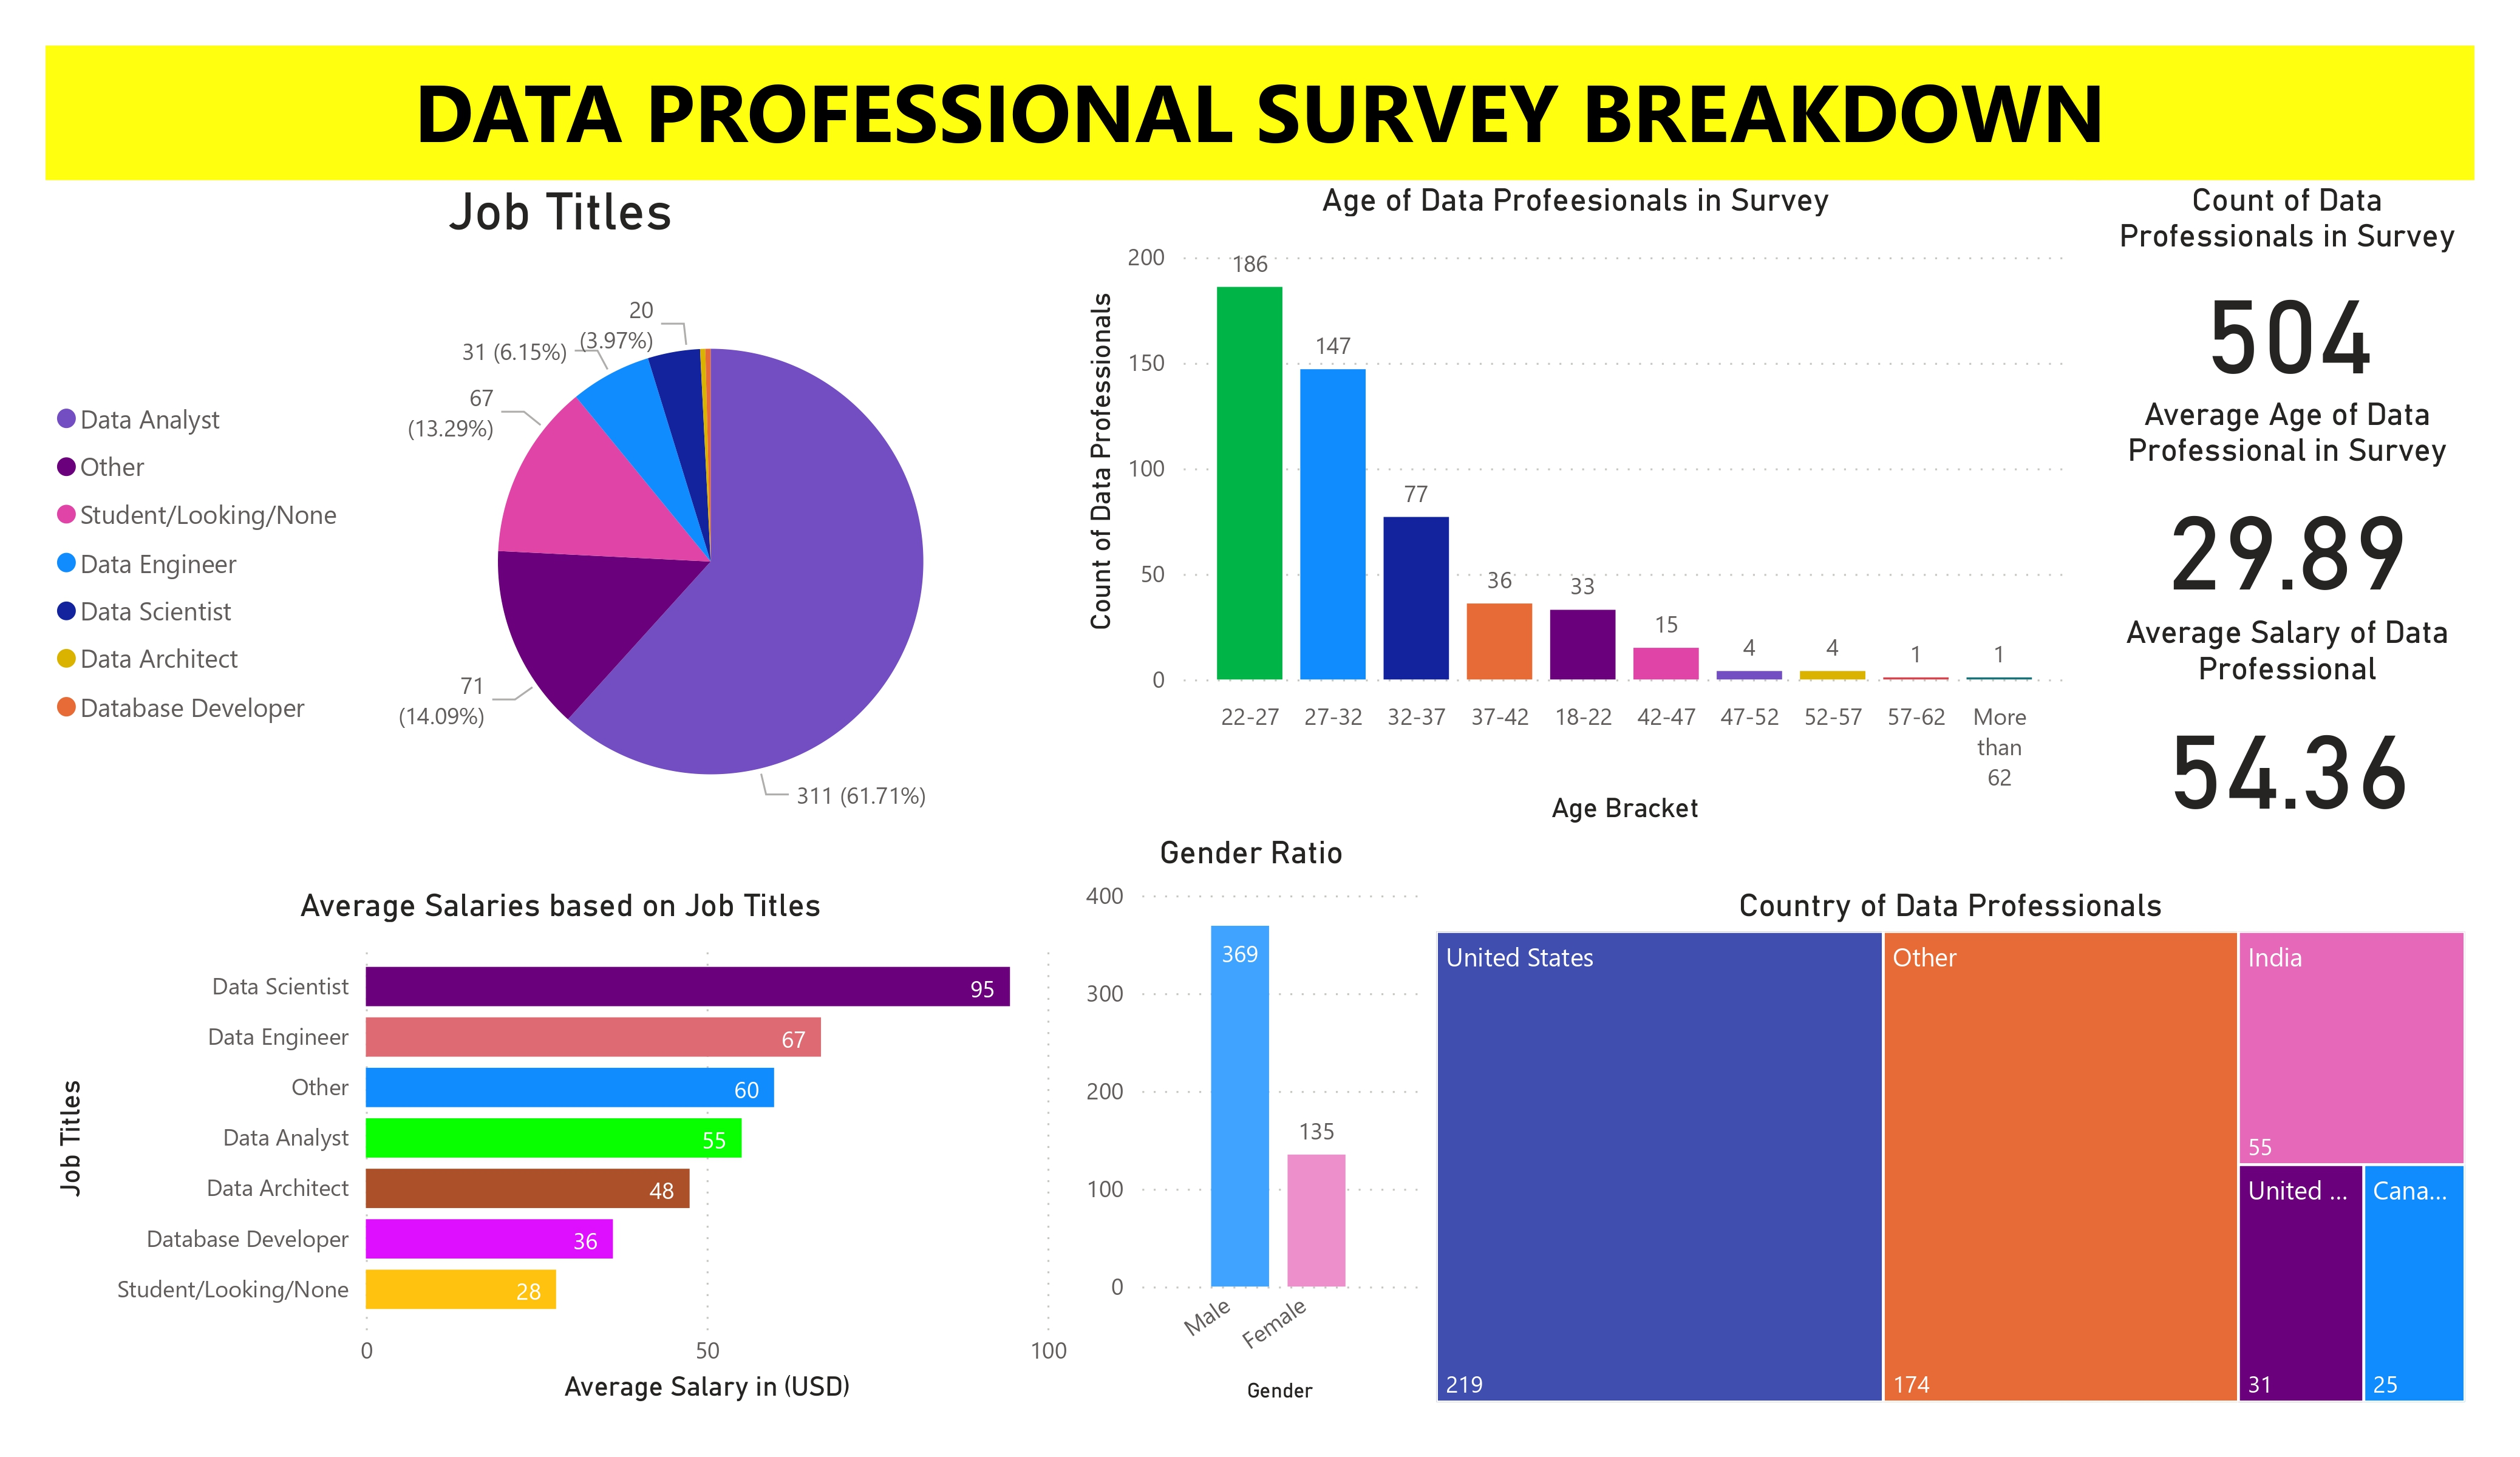

Layout of this report page (visuals, bound fields, positions):
{"tool":"powerbi","page":{"name":"Page 1","canvas":[1280,720],"ordinal":0},"visuals":[{"type":"textbox","box":[0,0,1280,71.2],"z":0},{"type":"pieChart","title":"Job Titles","fields":{"Category":["Data Professional Survey.Q1 - Which Title Best Fits your Current Role?.1"],"Y":["CountNonNull(Data Professional Survey.Q1 - Which Title Best Fits your Current Role?.1)"]},"box":[0,71.2,542.5,371],"z":1000},{"type":"columnChart","title":"Gender Ratio","fields":{"Category":["Data Professional Survey.Q9 - Male/Female?"],"Y":["CountNonNull(Data Professional Survey.Unique ID)"]},"box":[542.5,415,185,305],"z":2000},{"type":"card","title":"Count of Data Professionals in Survey","fields":{"Values":["CountNonNull(Data Professional Survey.Unique ID)"]},"box":[1082.5,71.2,197.5,112.5],"z":3000},{"type":"columnChart","title":"Age of Data Profeesionals in Survey","fields":{"Category":["Data Professional Survey.Age Bracket"],"Y":["CountNonNull(Data Professional Survey.Unique ID)"],"Series":["Data Professional Survey.Age Bracket"]},"box":[542.5,71.2,527.5,343.8],"z":4000},{"type":"card","title":"Average Age of Data Professional in Survey","fields":{"Values":["Avg(Data Professional Survey.Q10 - Current Age)"]},"box":[1082.5,183.8,197.5,115],"z":5000},{"type":"treemap","title":"Country of Data Professionals","fields":{"Group":["Data Professional Survey.Q11 - Which Country do you live in?.1"],"Values":["CountNonNull(Data Professional Survey.Q11 - Which Country do you live in?.1)"]},"box":[727.5,442.5,552.5,277.5],"z":6000},{"type":"barChart","title":"Average Salaries based on Job Titles","fields":{"Category":["Data Professional Survey.Q1 - Which Title Best Fits your Current Role?.1"],"Y":["Avg(Data Professional Survey.Average Salary)"]},"box":[0,442.5,542.5,277.5],"z":7000},{"type":"card","title":"Average Salary of Data Professional","fields":{"Values":["Avg(Data Professional Survey.Average Salary)"]},"box":[1082.5,298.8,197.5,116.2],"z":8000}]}

Visuals, with their boxes in screenshot pixels (x1, y1, x2, y2):
textbox: l=46, t=46, r=2474, b=181
"Job Titles" pieChart: l=46, t=181, r=1075, b=885
"Gender Ratio" columnChart: l=1075, t=833, r=1426, b=1411
"Count of Data Professionals in Survey" card: l=2100, t=181, r=2474, b=394
"Age of Data Profeesionals in Survey" columnChart: l=1075, t=181, r=2076, b=833
"Average Age of Data Professional in Survey" card: l=2100, t=394, r=2474, b=613
"Country of Data Professionals" treemap: l=1426, t=885, r=2474, b=1411
"Average Salaries based on Job Titles" barChart: l=46, t=885, r=1075, b=1411
"Average Salary of Data Professional" card: l=2100, t=613, r=2474, b=833
